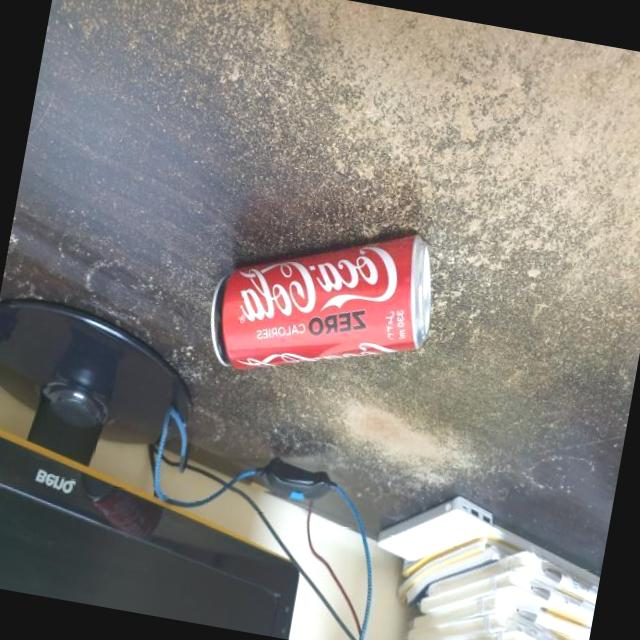can: (198, 194, 448, 404)
